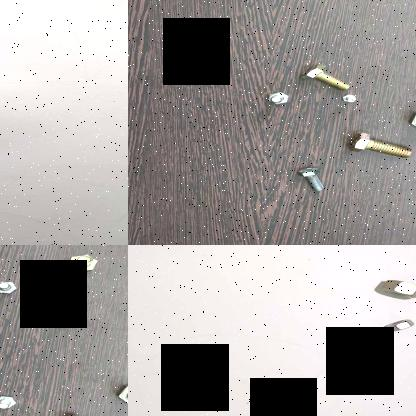Bolts: (337, 131, 416, 159), (298, 61, 352, 92), (294, 164, 334, 193), (64, 247, 106, 274), (254, 88, 294, 106), (111, 380, 128, 408), (0, 392, 19, 410), (406, 106, 416, 140), (0, 279, 21, 295)
NUTS: (358, 274, 416, 302), (366, 314, 416, 345)
